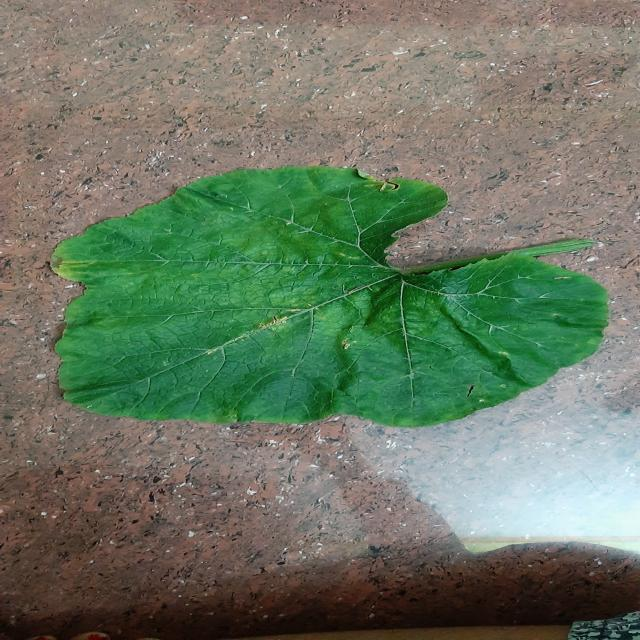pumpkin: (54, 166, 607, 426)
